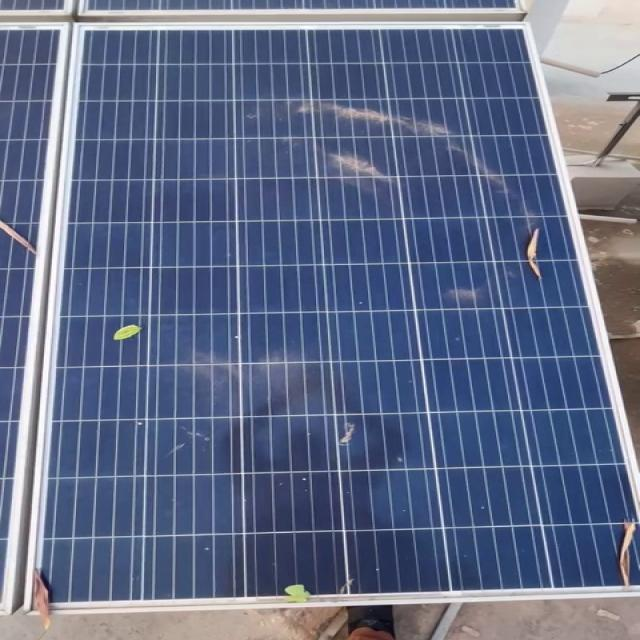bird_dropping: (318, 422, 382, 456)
dust_partical: (282, 102, 512, 206), (177, 359, 308, 406), (495, 224, 562, 294)
old_leaf: (0, 560, 75, 630), (0, 213, 57, 266), (595, 515, 630, 588), (265, 570, 310, 604), (115, 318, 140, 342)
